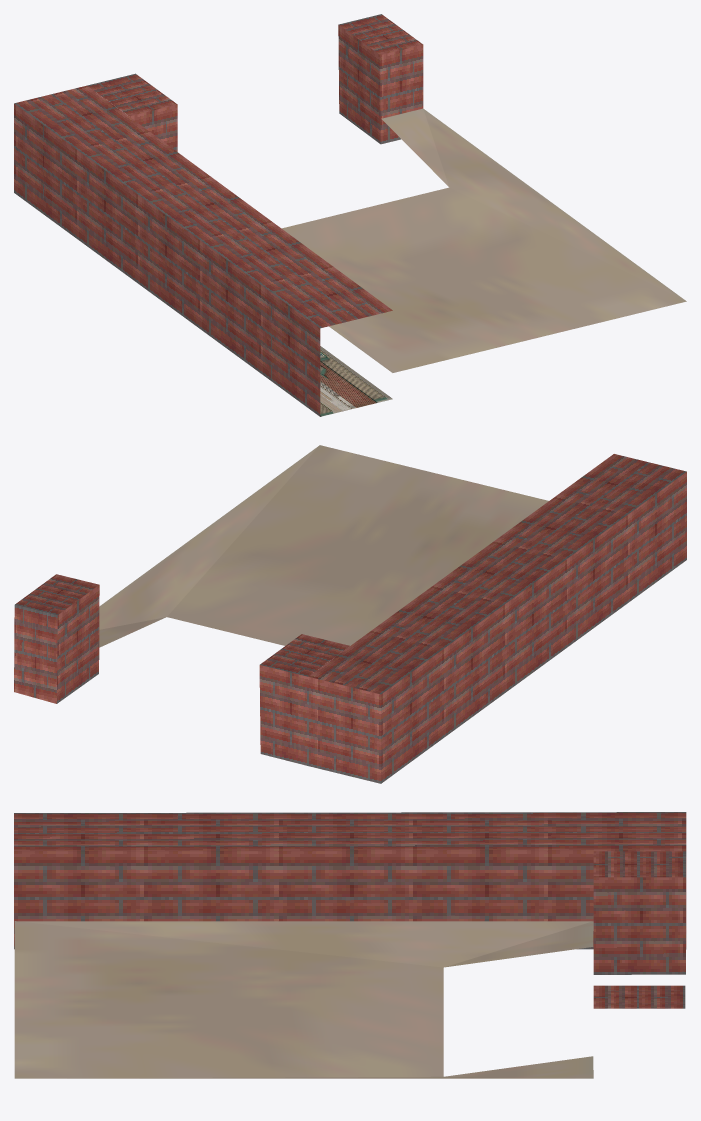
File: HOUSE BASE.glb
3 renders of one model, top to bottom at view 1: azimuth 30°, elevation 25°; view 2: azimuth 150°, elevation 25°; view 3: azimuth 270°, elevation 25°, orthographic. The views are drawn at different scales.
Visible parts, largest first — view 1: HOUSE BASE; view 2: HOUSE BASE; view 3: HOUSE BASE.
Part boxes in pixels (x1,y1,x2,y2): HOUSE BASE: [14, 14, 686, 416]; HOUSE BASE: [14, 445, 686, 783]; HOUSE BASE: [14, 812, 686, 1078].
Bounding box in the file's own units: 588 × 137 × 850.
3 materials, 3 textured.
